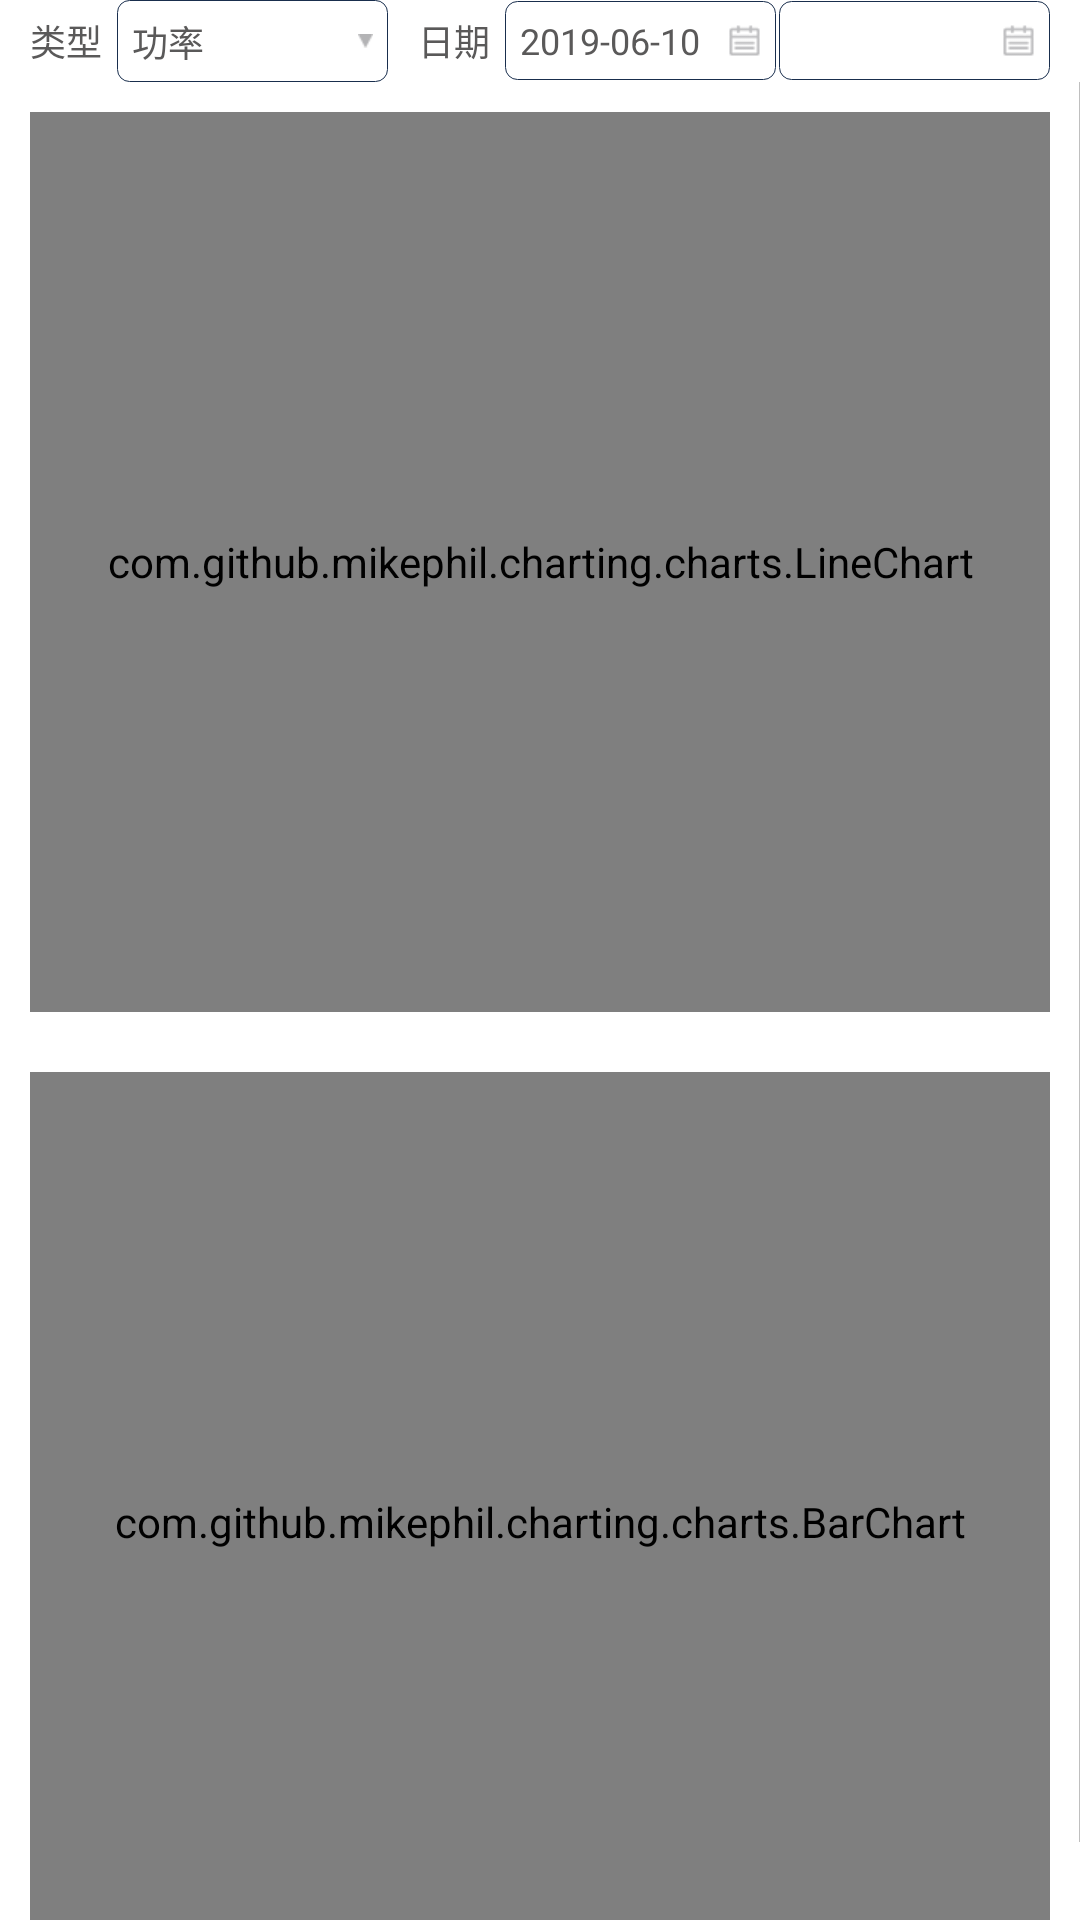

Locate icon controls on the screen. Image size 1080*1920, boxes as rect(x1, y1, x2, y2).
socket date: rect(729, 26, 760, 56), rect(1003, 26, 1034, 56)
